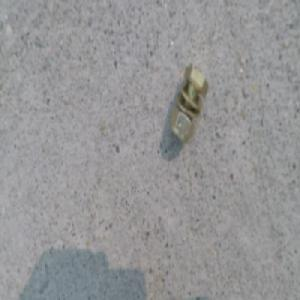BoltNutSet: (172, 56, 213, 135)
